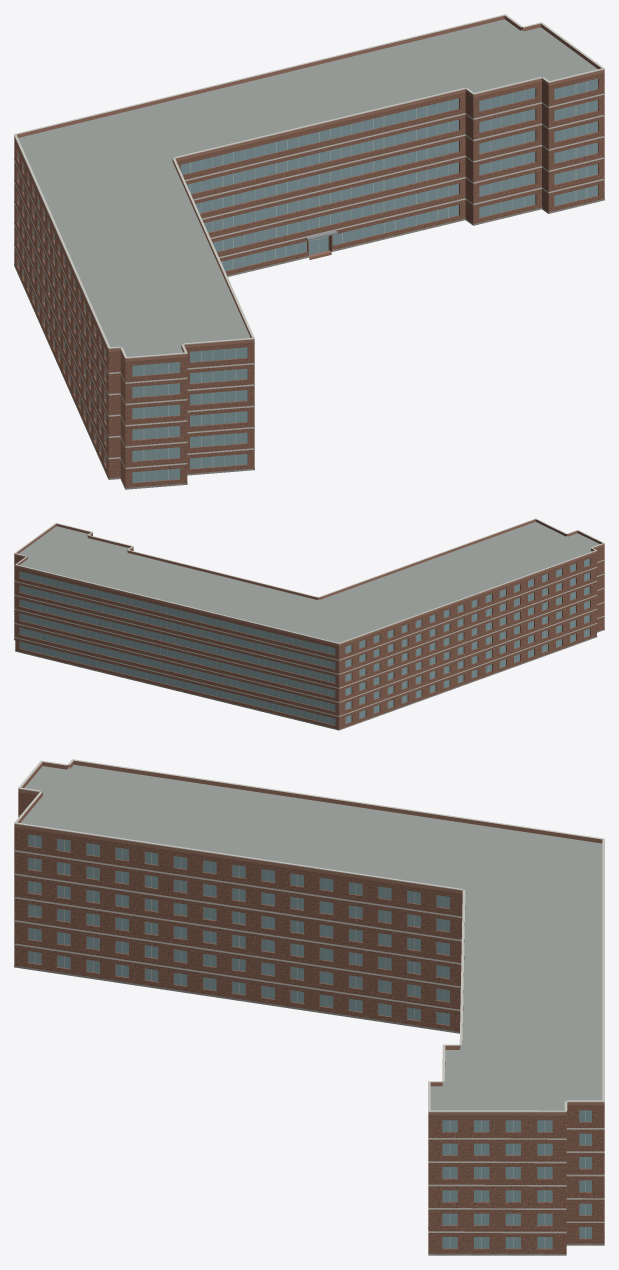
3 renders of one model, top to bottom at view 1: azimuth 30°, elevation 25°; view 2: azimuth 150°, elevation 25°; view 3: azimuth 270°, elevation 25°, orthographic. The views are drawn at different scales.
Parts seen in each view (by area): view 1: w4__roof, w4__wall, w4__glass, w4__trim, w4__parapet, w4__frame, w4__base; view 2: w4__wall, w4__roof, w4__glass, w4__trim, w4__parapet, w4__frame, w4__base; view 3: w4__roof, w4__wall, w4__glass, w4__trim, w4__parapet, w4__frame, w4__base.
Part boxes in pixels (left/top/right/bottom): w4__roof: left=18, top=19, right=597, bottom=356; w4__wall: left=14, top=72, right=604, bottom=489; w4__glass: left=18, top=78, right=597, bottom=482; w4__trim: left=14, top=14, right=604, bottom=468; w4__parapet: left=14, top=15, right=604, bottom=361; w4__frame: left=19, top=81, right=587, bottom=481; w4__base: left=14, top=198, right=604, bottom=489; w4__wall: left=14, top=534, right=604, bottom=729; w4__roof: left=19, top=521, right=599, bottom=642; w4__glass: left=19, top=558, right=589, bottom=725; w4__trim: left=14, top=518, right=604, bottom=716; w4__parapet: left=14, top=519, right=604, bottom=645; w4__frame: left=26, top=560, right=586, bottom=723; w4__base: left=14, top=629, right=604, bottom=730; w4__roof: left=20, top=764, right=602, bottom=1249; w4__wall: left=14, top=792, right=604, bottom=1253; w4__glass: left=28, top=834, right=591, bottom=1248; w4__trim: left=14, top=759, right=604, bottom=1233; w4__parapet: left=14, top=760, right=604, bottom=1115; w4__frame: left=34, top=835, right=585, bottom=1248; w4__base: left=14, top=965, right=604, bottom=1255.
Size of the model in its own units: 112 by 21.7 by 79.15.
10 materials, 2 textured.
